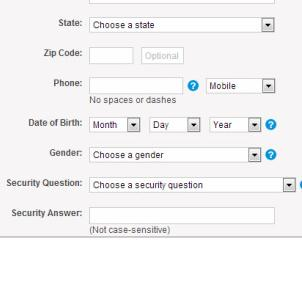button: (141, 46, 185, 65)
field: (86, 206, 276, 225), (88, 177, 297, 194), (88, 16, 276, 34), (88, 147, 263, 163), (86, 75, 183, 95), (205, 77, 276, 94), (86, 45, 133, 66), (88, 116, 142, 134), (209, 116, 263, 133), (148, 117, 201, 133)
field_with_label: (7, 175, 298, 195), (11, 206, 277, 226), (59, 14, 278, 35), (51, 145, 266, 164), (55, 74, 184, 96), (28, 115, 143, 135), (43, 44, 134, 67)
